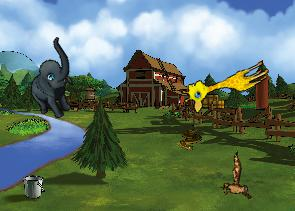eagle: (208, 151, 264, 210)
elephant: (11, 36, 96, 125)
giraffe: (178, 49, 272, 116)
